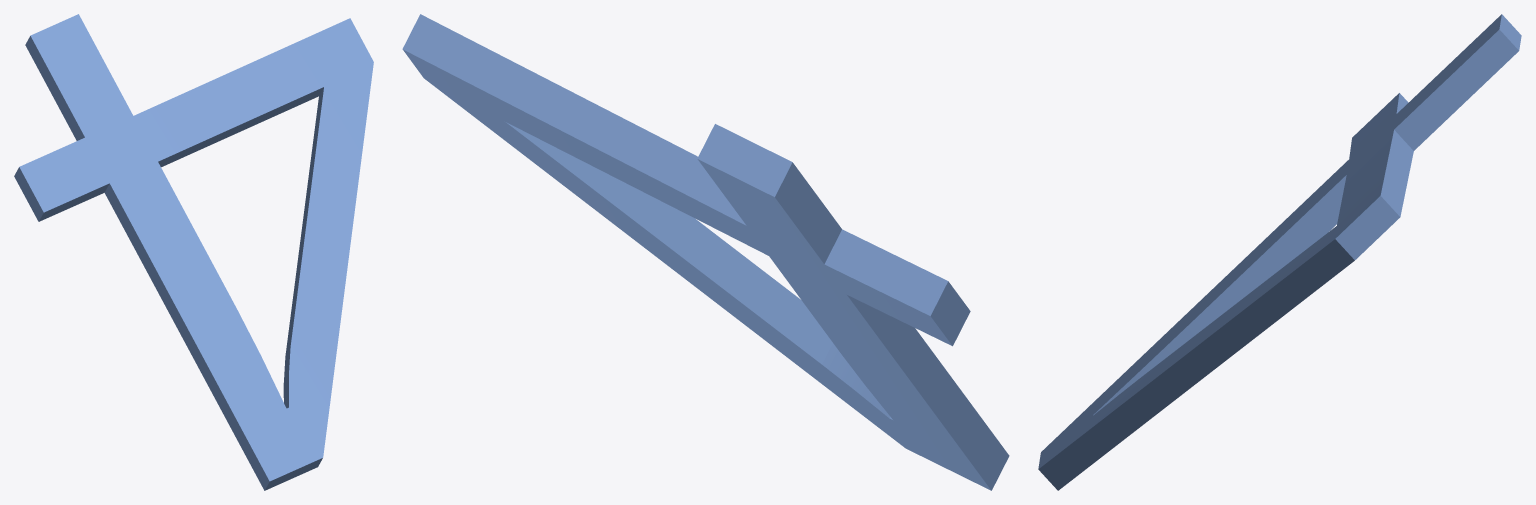
File: New_Number_4.gltf
The picture shows the model from 3 angles, left to right: view 1: azimuth 30°, elevation 25°; view 2: azimuth 150°, elevation 25°; view 3: azimuth 270°, elevation 25°; orthographic projection. The views are drawn at different scales.
Parts seen in each view (by area): view 1: Part 202; view 2: Part 202; view 3: Part 202.
Boxes of the visible parts, left/top/right/bottom form: Part 202: left=14, top=14, right=373, bottom=490; Part 202: left=402, top=14, right=1009, bottom=490; Part 202: left=1038, top=14, right=1521, bottom=490.
Size of the model in its own units: 0.00409 by 0.00413 by 0.00413.
